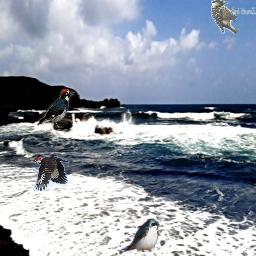Swallow: (123, 218, 160, 252)
Woodpecker: (37, 89, 75, 128), (30, 156, 70, 191), (211, 0, 238, 34)
